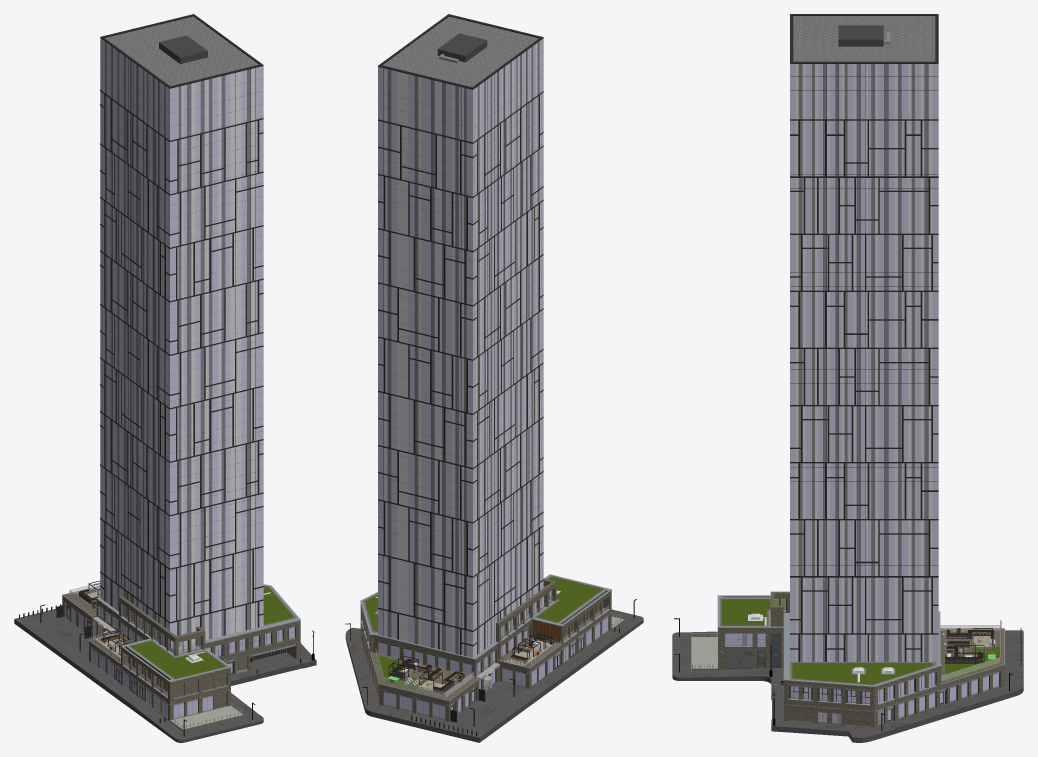
Rendered from bankside.glb.
3 views of the same model, side by side, from view 1: azimuth 30°, elevation 25°; view 2: azimuth 150°, elevation 25°; view 3: azimuth 270°, elevation 25° (orthographic). The views are drawn at different scales.
Visible parts, largest first — view 1: respaldo building, respaldo building.001, Cube.001, Cube.002, 11, Cube.199; view 2: respaldo building, respaldo building.001, Cube.001, Cube.002, 11, Cube.199, Plane.001, Plane.018; view 3: respaldo building, respaldo building.001, Cube.001, Cube.002, 11, Cube.199, Plane.018, Plane.001, Cube.003.
Boxes of the visible parts, x1=… form: respaldo building: x1=100, y1=14, x2=263, y2=647; respaldo building.001: x1=100, y1=38, x2=263, y2=648; Cube.001: x1=62, y1=584, x2=300, y2=731; Cube.002: x1=100, y1=90, x2=263, y2=643; 11: x1=14, y1=609, x2=316, y2=742; Cube.199: x1=159, y1=35, x2=207, y2=63; respaldo building: x1=378, y1=14, x2=543, y2=657; respaldo building.001: x1=378, y1=38, x2=543, y2=657; Cube.001: x1=360, y1=574, x2=624, y2=721; Cube.002: x1=378, y1=91, x2=543, y2=654; 11: x1=345, y1=609, x2=643, y2=742; Cube.199: x1=437, y1=33, x2=554, y2=640; Plane.001: x1=375, y1=648, x2=473, y2=697; Plane.018: x1=377, y1=655, x2=426, y2=689; respaldo building: x1=790, y1=14, x2=938, y2=661; respaldo building.001: x1=790, y1=64, x2=938, y2=661; Cube.001: x1=691, y1=591, x2=1004, y2=727; Cube.002: x1=790, y1=119, x2=938, y2=661; 11: x1=672, y1=630, x2=1023, y2=742; Cube.199: x1=838, y1=25, x2=890, y2=46; Plane.018: x1=945, y1=647, x2=999, y2=679; Plane.001: x1=940, y1=625, x2=1000, y2=680; Cube.003: x1=791, y1=686, x2=869, y2=703.
Size of the model in its own units: 45.75 by 129 by 63.12.
31 materials, 26 textured.
